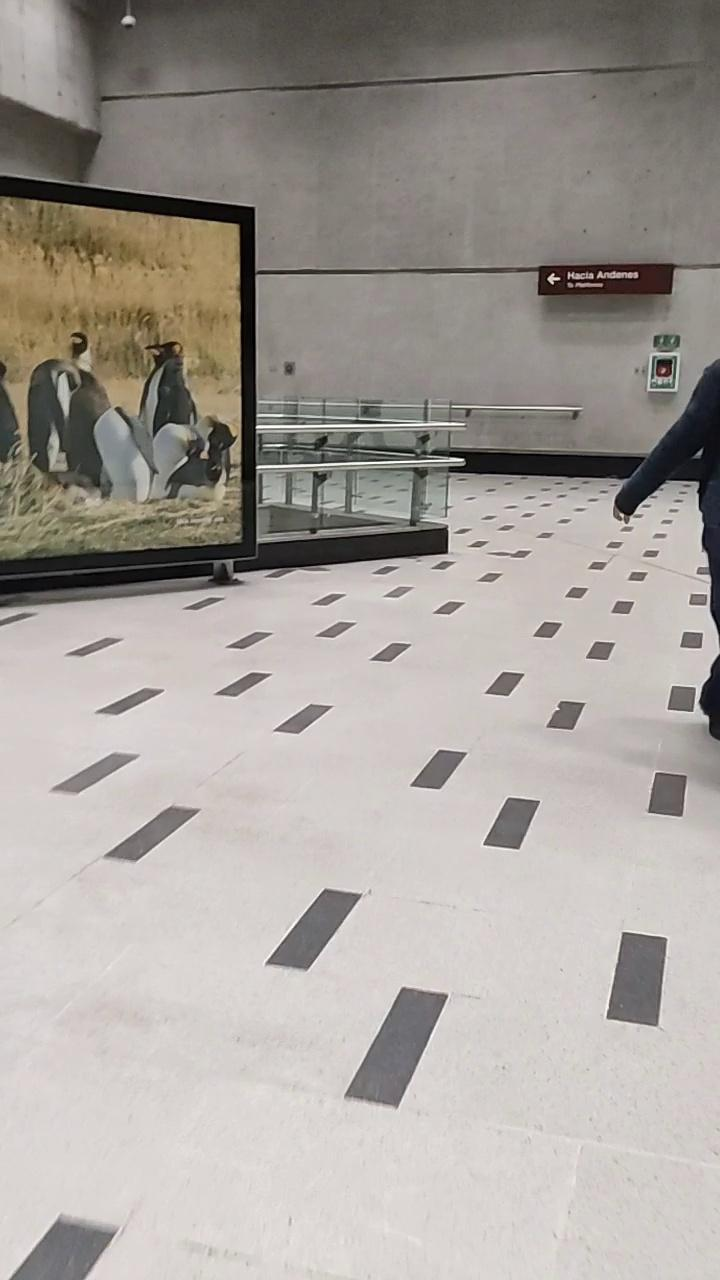left arrow: (542, 266, 571, 290)
